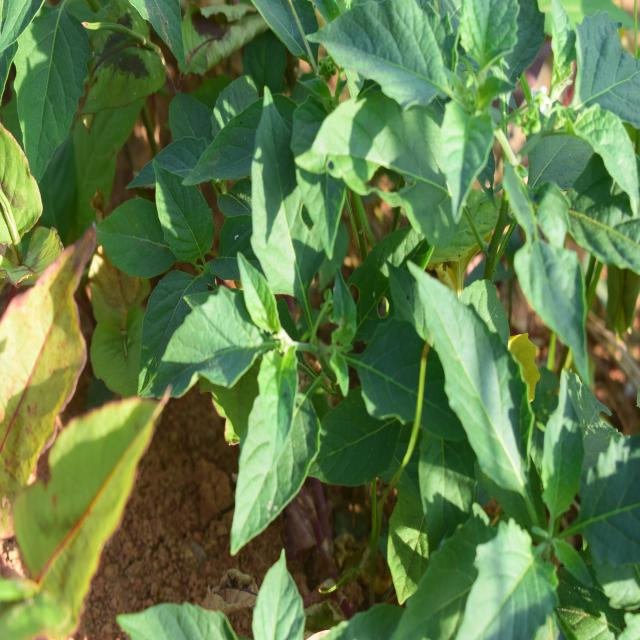Black_nightshade: (184, 113, 476, 536), (314, 0, 627, 368)
